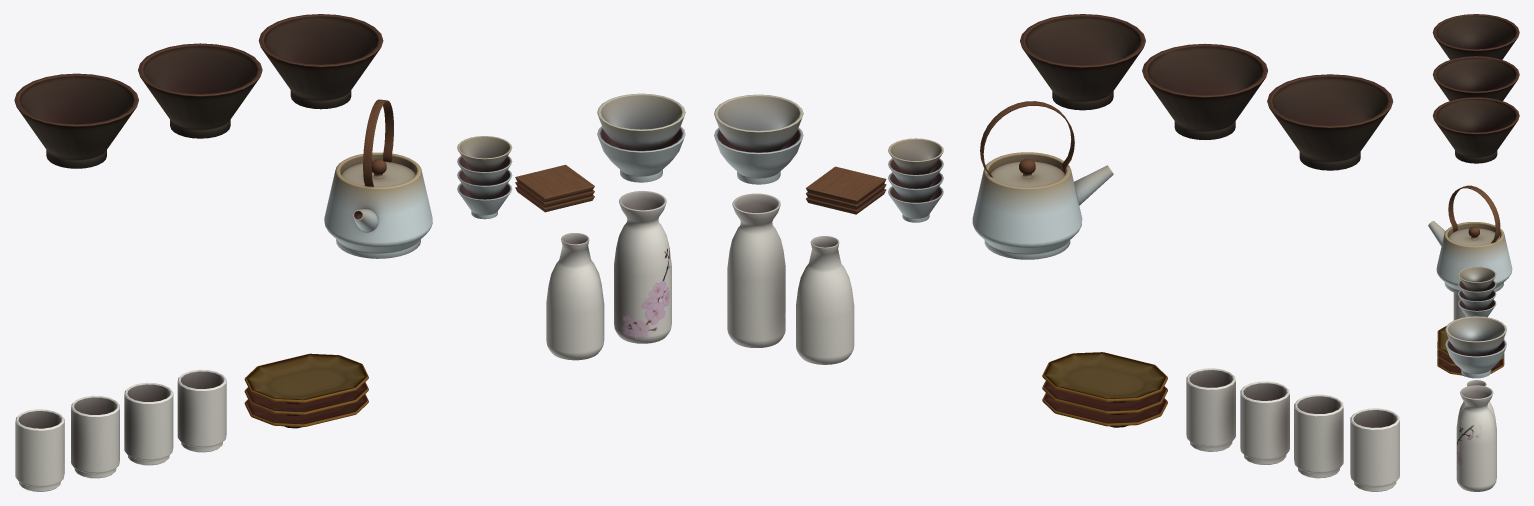
File: JapaneseRestaurant_Dishes.fbx
3 views of the same model, side by side, from view 1: azimuth 30°, elevation 25°; view 2: azimuth 150°, elevation 25°; view 3: azimuth 270°, elevation 25° (orthographic). The views are drawn at different scales.
Visible parts, largest first — view 1: JapaneseRestaurant_Dishes; view 2: JapaneseRestaurant_Dishes; view 3: JapaneseRestaurant_Dishes.
Part boxes in pixels (left/top/right/bottom): JapaneseRestaurant_Dishes: left=14, top=14, right=685, bottom=491; JapaneseRestaurant_Dishes: left=714, top=14, right=1399, bottom=491; JapaneseRestaurant_Dishes: left=1428, top=14, right=1519, bottom=491.
Size of the model in its own units: 113 by 60.36 by 19.26.
